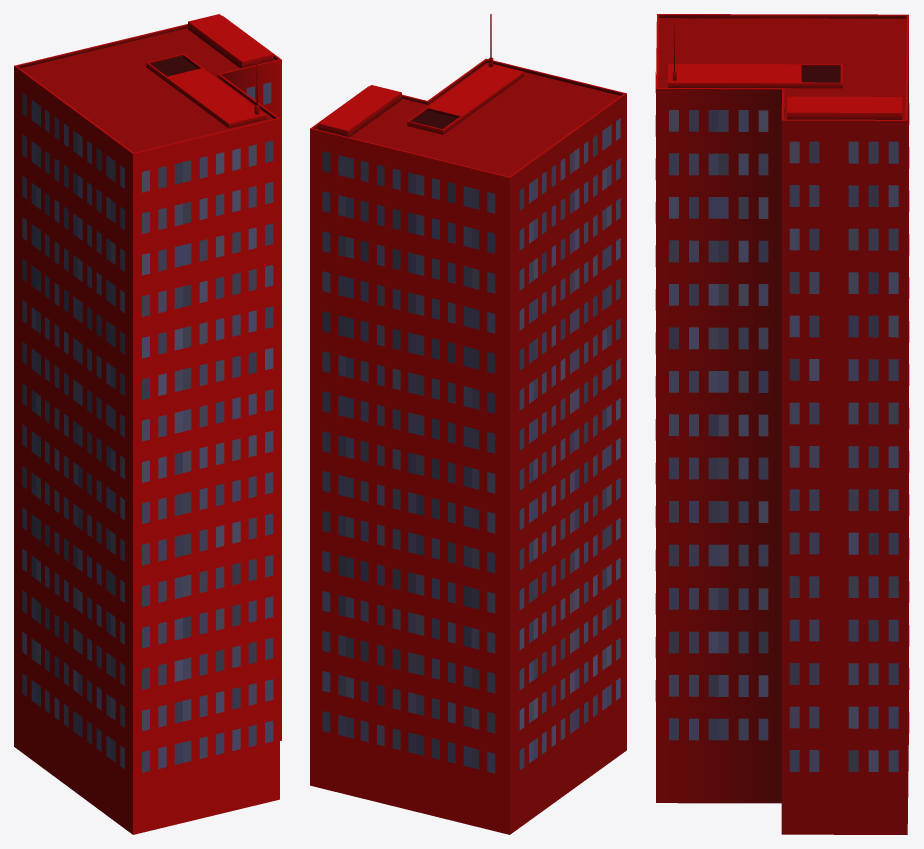
File: Mesh.Skyscraper2.fbx
3 renders of one model, left to right at view 1: azimuth 30°, elevation 25°; view 2: azimuth 150°, elevation 25°; view 3: azimuth 270°, elevation 25°, orthographic. The views are drawn at different scales.
Visible parts, largest first — view 1: base.154, windowRefl.114; view 2: base.154, windowRefl.114; view 3: base.154, windowRefl.114.
Part boxes in pixels (x1,y1,x2,y2): base.154: (14, 14, 281, 834); windowRefl.114: (22, 82, 273, 772); base.154: (310, 14, 626, 834); windowRefl.114: (322, 118, 620, 773); base.154: (656, 14, 908, 834); windowRefl.114: (655, 72, 909, 771).
Bounding box in the file's own units: 2100 × 2099 × 7025.
